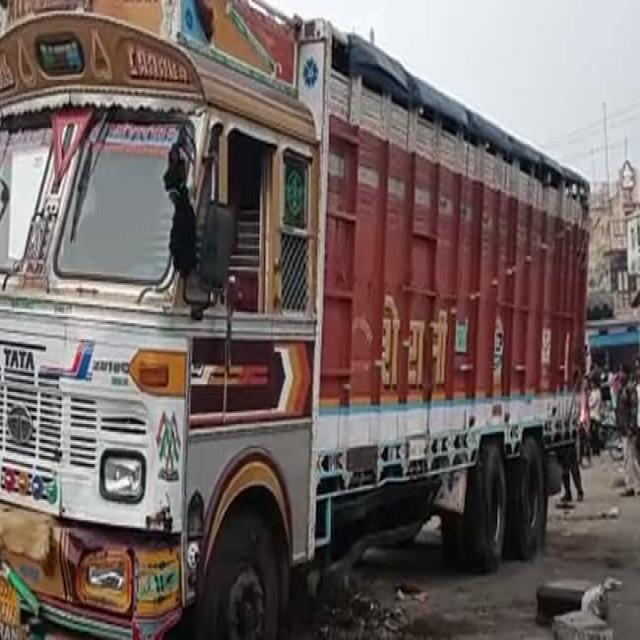truck: (0, 0, 588, 638)
